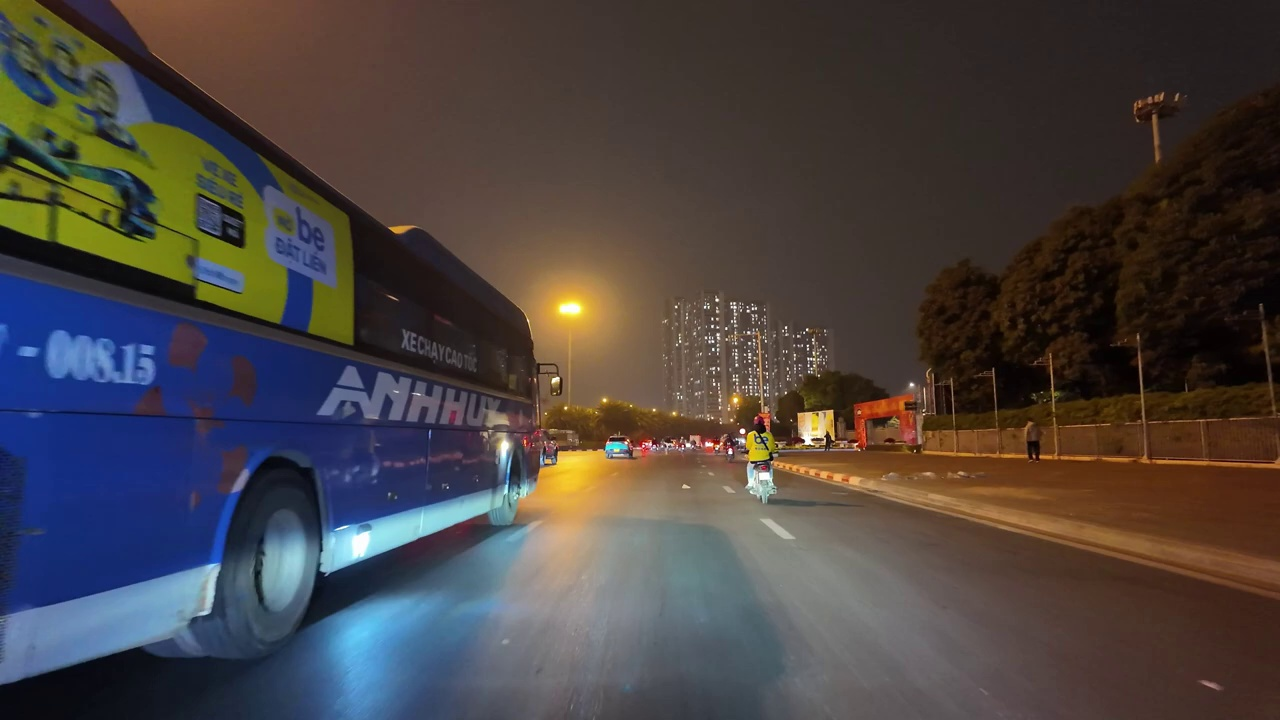acesa: (550, 293, 591, 327)
